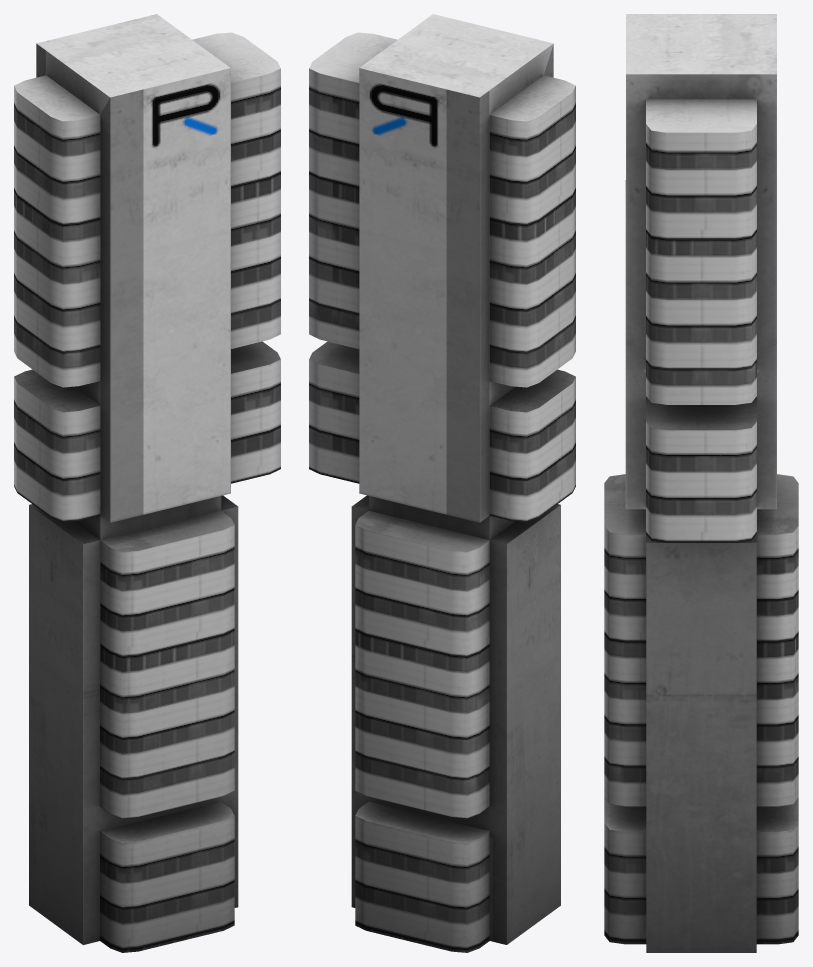
Rendered from backdrop_building_01.DAE.
The picture shows the model from 3 angles, left to right: view 1: azimuth 30°, elevation 25°; view 2: azimuth 150°, elevation 25°; view 3: azimuth 270°, elevation 25°; orthographic projection. The views are drawn at different scales.
Parts seen in each view (by area): view 1: backdrop_building_01; view 2: backdrop_building_01; view 3: backdrop_building_01.
Part boxes in pixels (left/top/right/bottom): backdrop_building_01: left=14, top=14, right=280, bottom=952; backdrop_building_01: left=309, top=14, right=575, bottom=952; backdrop_building_01: left=604, top=14, right=798, bottom=952.
Size of the model in its own units: 1410 by 1023 by 5059.
